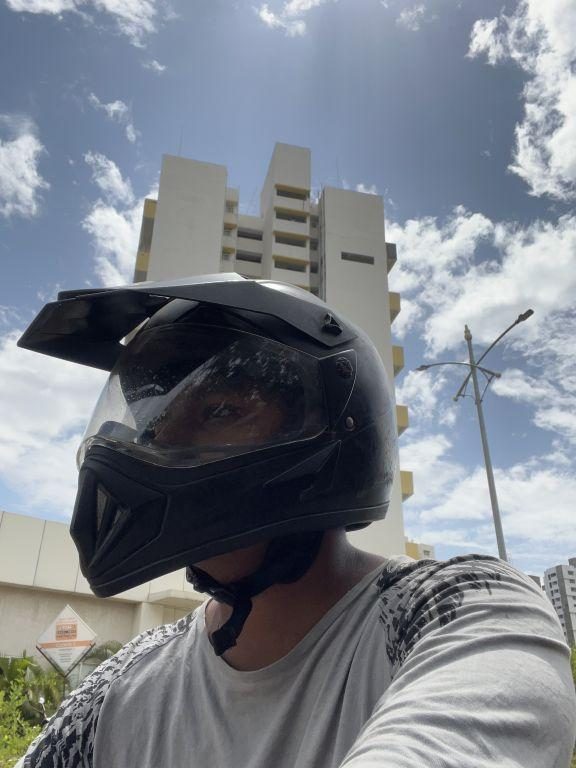helmet: (4, 269, 413, 606)
